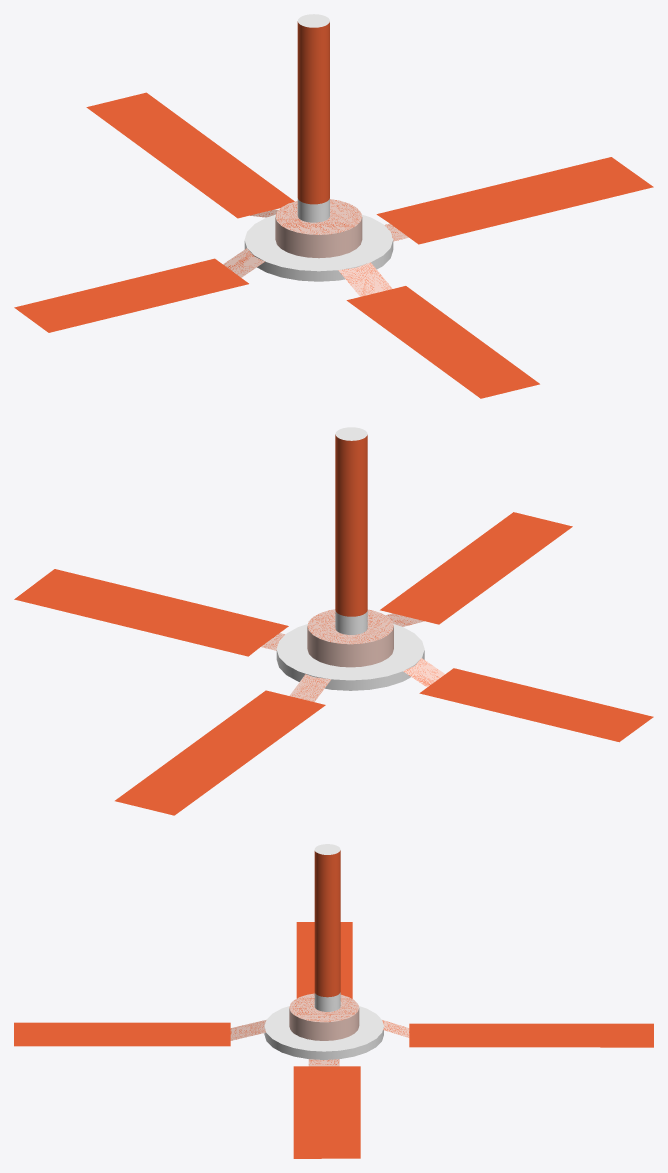
The model's file is fan_own.dae.
3 renders of one model, top to bottom at view 1: azimuth 30°, elevation 25°; view 2: azimuth 150°, elevation 25°; view 3: azimuth 270°, elevation 25°, orthographic. The views are drawn at different scales.
Parts seen in each view (by area): view 1: SketchUp (×11); view 2: SketchUp (×11); view 3: SketchUp (×9).
Boxes of the visible parts, x1=… form: SketchUp (×11): x1=14, y1=21, x2=653, y2=398; SketchUp (×11): x1=14, y1=434, x2=653, y2=815; SketchUp (×9): x1=14, y1=850, x2=653, y2=1158.
Size of the model in its own units: 237 by 270 by 85.69.
